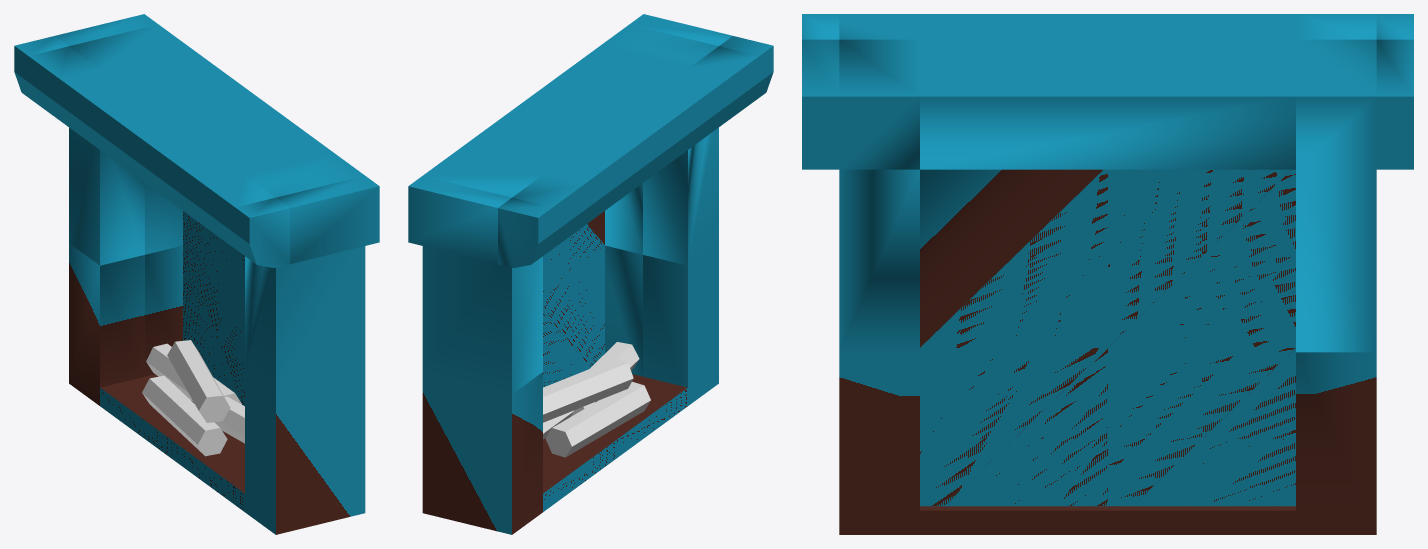
The model's file is Fireplace.fbx.
3 views of the same model, side by side, from view 1: azimuth 30°, elevation 25°; view 2: azimuth 150°, elevation 25°; view 3: azimuth 270°, elevation 25° (orthographic). The views are drawn at different scales.
Parts seen in each view (by area): view 1: Fireplace, Cylinder.001; view 2: Fireplace, Cylinder.001; view 3: Fireplace.
Boxes of the visible parts, x1=… form: Fireplace: x1=14, y1=14, x2=379, y2=534; Cylinder.001: x1=142, y1=340, x2=244, y2=456; Fireplace: x1=408, y1=14, x2=773, y2=534; Cylinder.001: x1=543, y1=342, x2=650, y2=457; Fireplace: x1=802, y1=14, x2=1413, y2=534.
Size of the model in its own units: 72.63 by 180 by 228.
